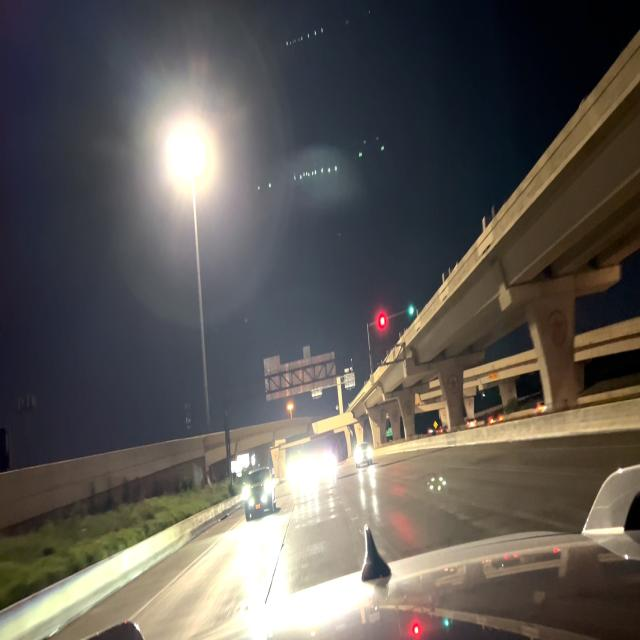back-of-sign: (264, 346, 338, 397)
